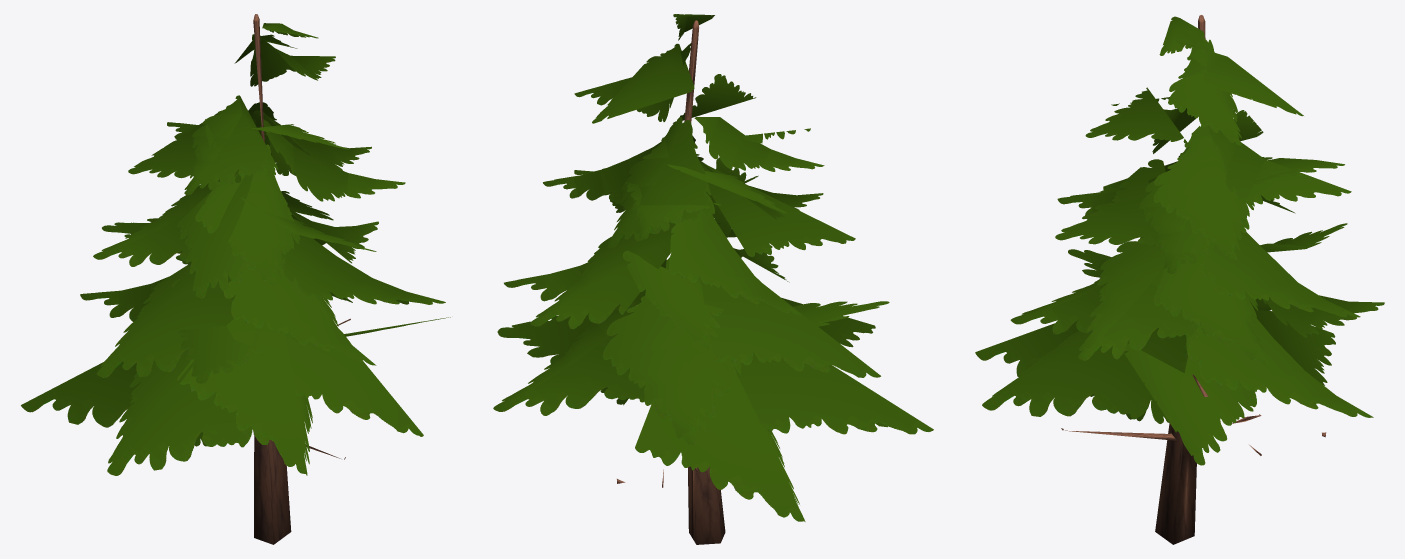
File: pine_2.glb
3 views of the same model, side by side, from view 1: azimuth 30°, elevation 25°; view 2: azimuth 150°, elevation 25°; view 3: azimuth 270°, elevation 25° (orthographic). The views are drawn at different scales.
Parts seen in each view (by area): view 1: Pine_2; view 2: Pine_2; view 3: Pine_2.
Boxes of the visible parts, bbox=[...] form: Pine_2: bbox=[21, 14, 450, 544]; Pine_2: bbox=[493, 14, 933, 544]; Pine_2: bbox=[975, 15, 1384, 544].
Size of the model in its own units: 5.73 by 7.1 by 5.22.
2 materials, 2 textured.
